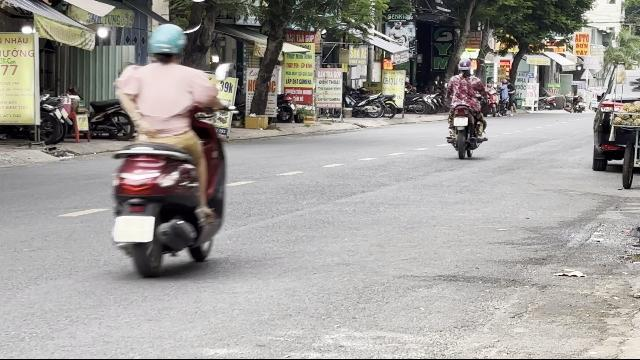helmet: (145, 22, 187, 64)
licenseplate: (115, 216, 154, 240)
motorcyclist: (101, 20, 233, 278)
